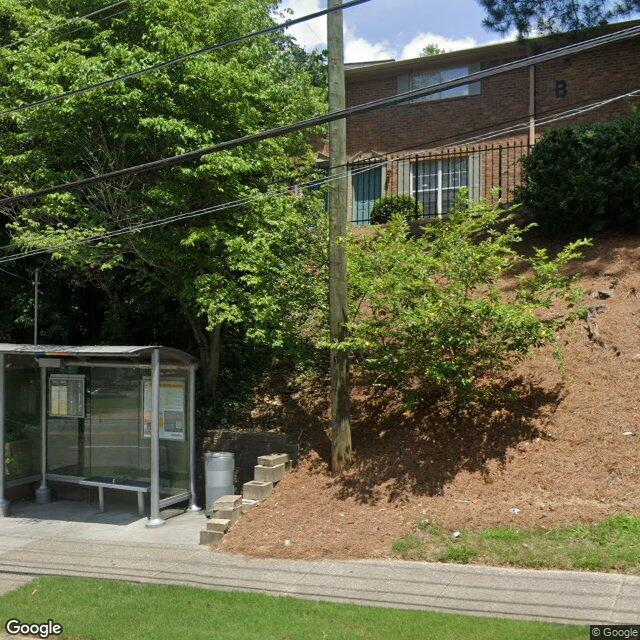seating: (78, 474, 149, 516)
shelter: (0, 344, 199, 526)
trash_can: (203, 452, 235, 512)
